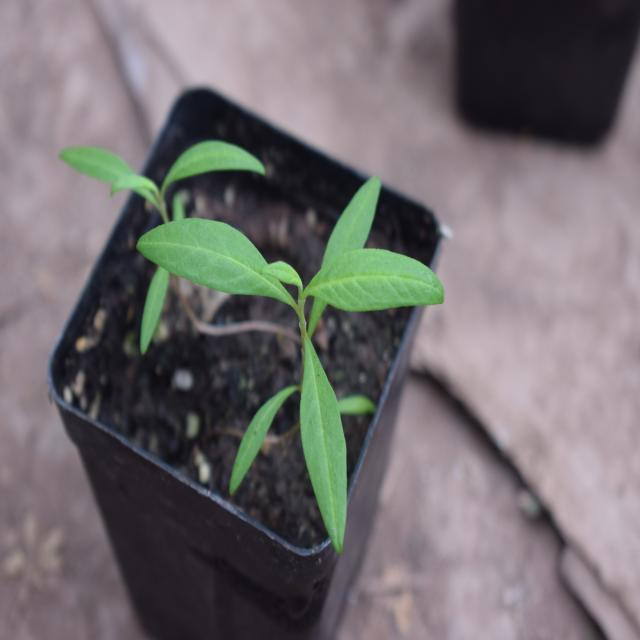white_smart_weed: (121, 176, 453, 564)
